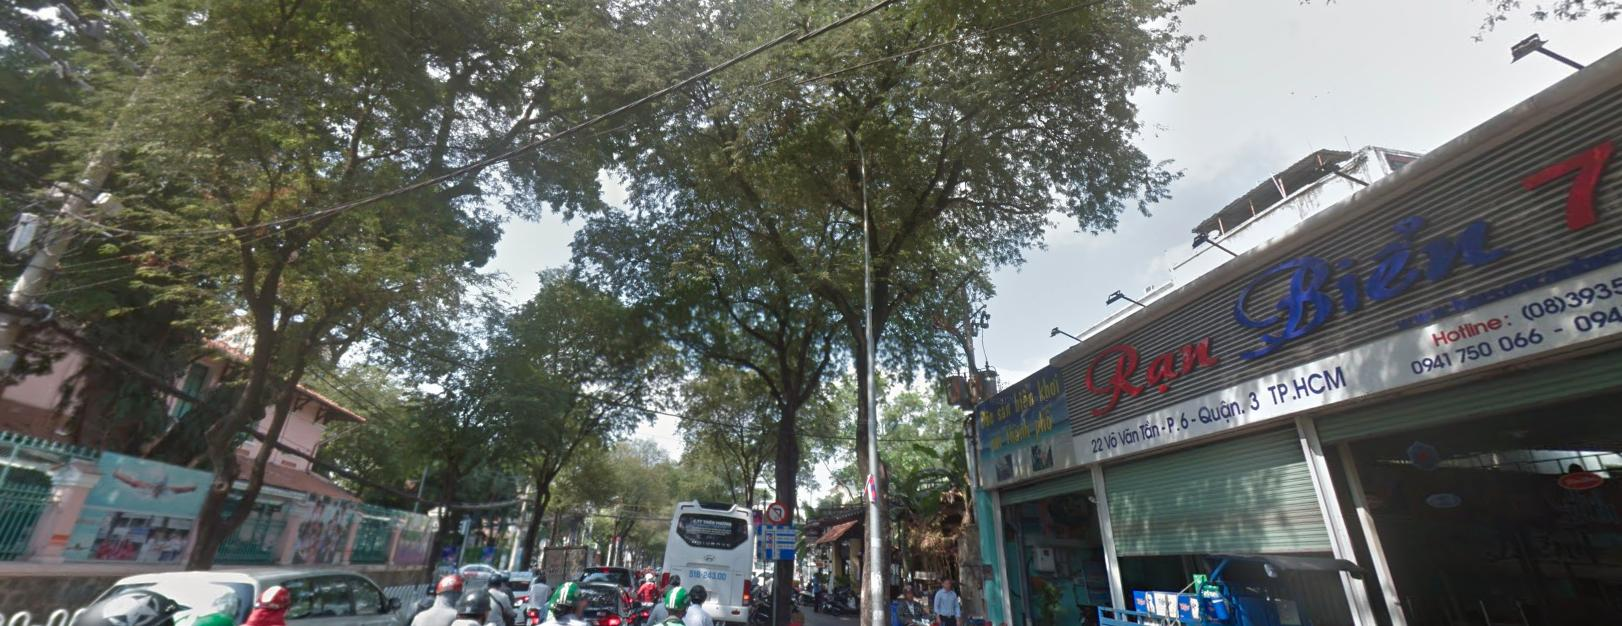Cam re: (765, 500, 787, 523), (765, 502, 786, 523)
